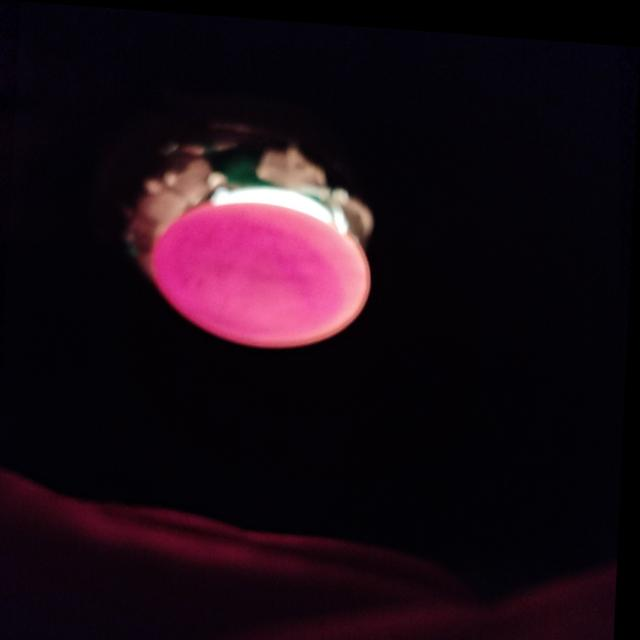Gema Quebrada: (153, 204, 346, 336)
